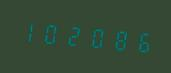eight: (106, 21, 127, 56)
one: (17, 14, 38, 48)
six: (128, 23, 149, 58)
two: (62, 18, 83, 52)
zero: (84, 19, 105, 54), (39, 16, 60, 50)
